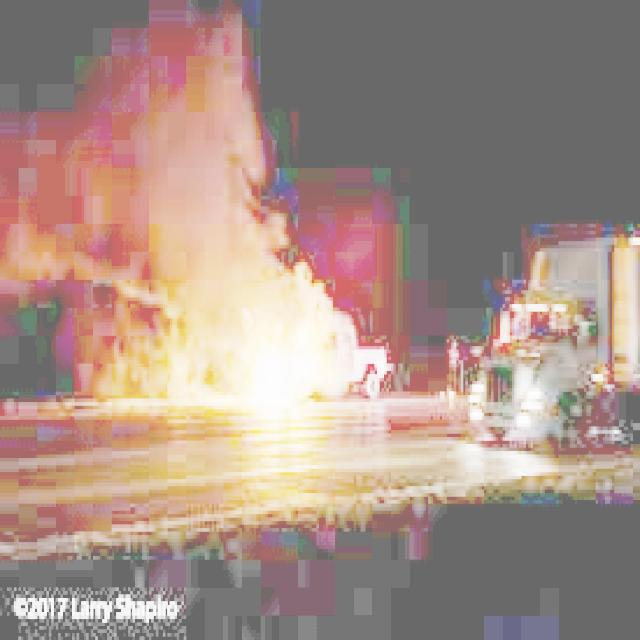api: (224, 284, 355, 414)
